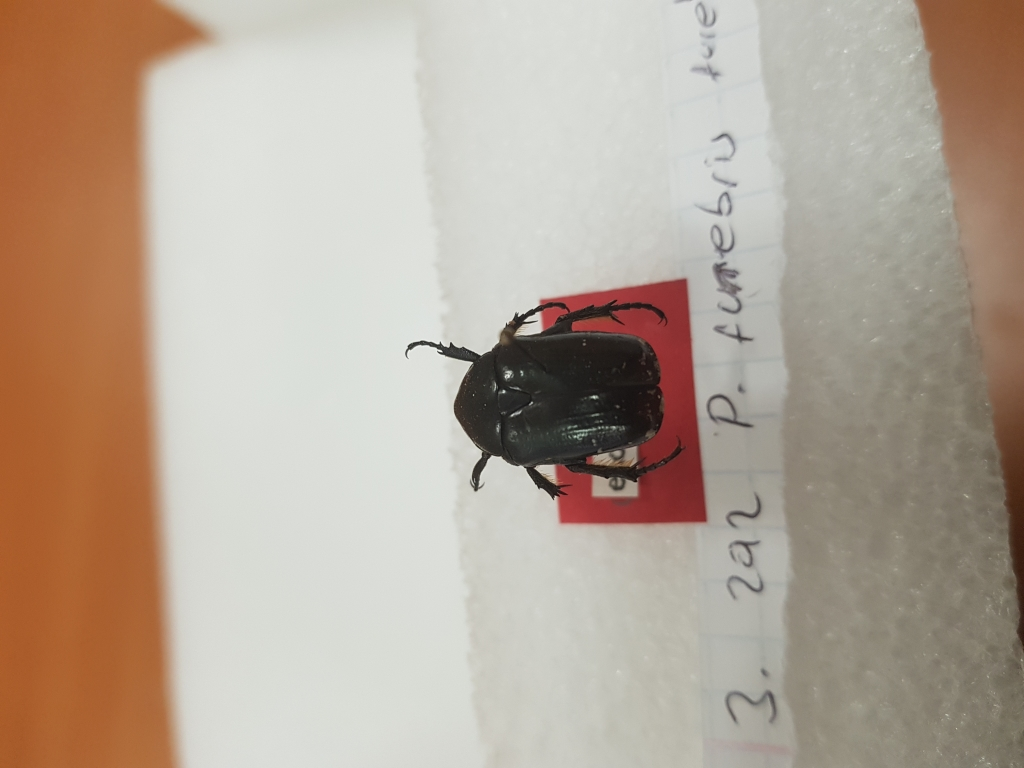Protaetia_funebris_funebris: (394, 292, 700, 505)
